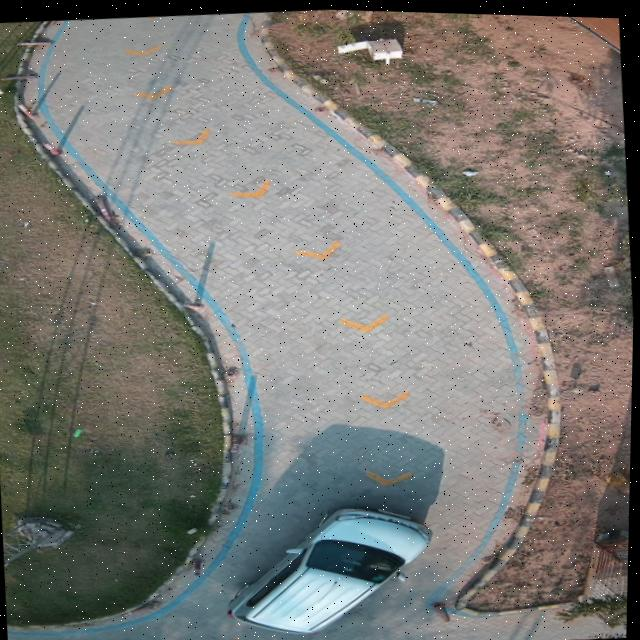car: (231, 501, 435, 631)
